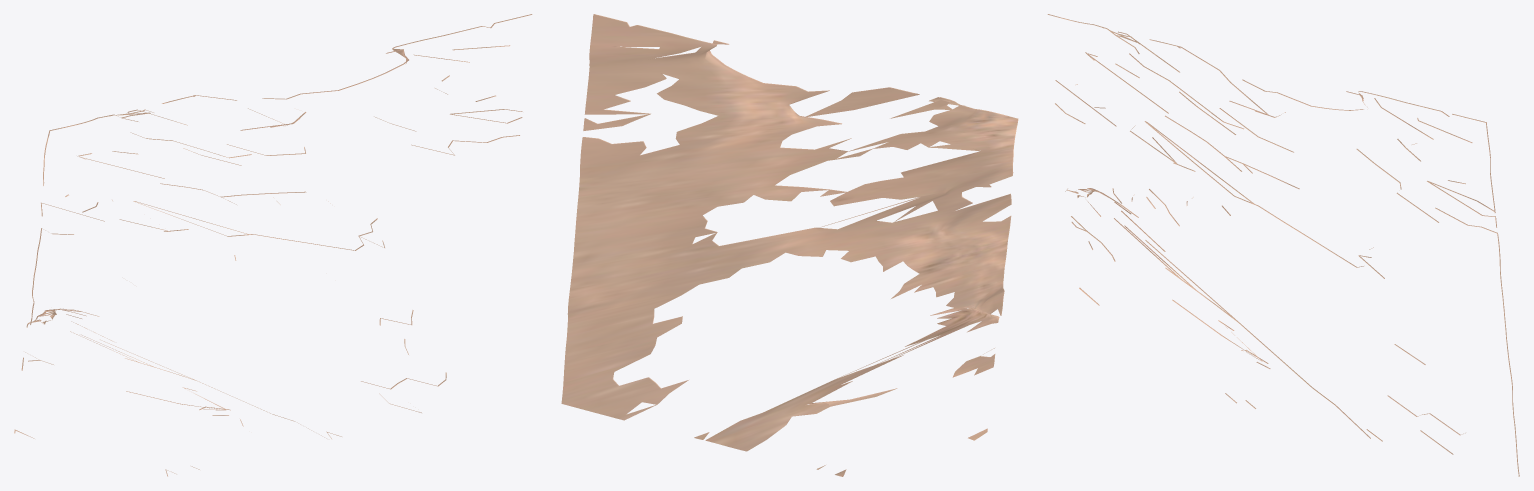
3 renders of one model, left to right at view 1: azimuth 30°, elevation 25°; view 2: azimuth 150°, elevation 25°; view 3: azimuth 330°, elevation 25°, orthographic. The views are drawn at different scales.
Size of the model in its own units: 20.18 by 16.58 by 3.35.
1 material, 1 textured.
